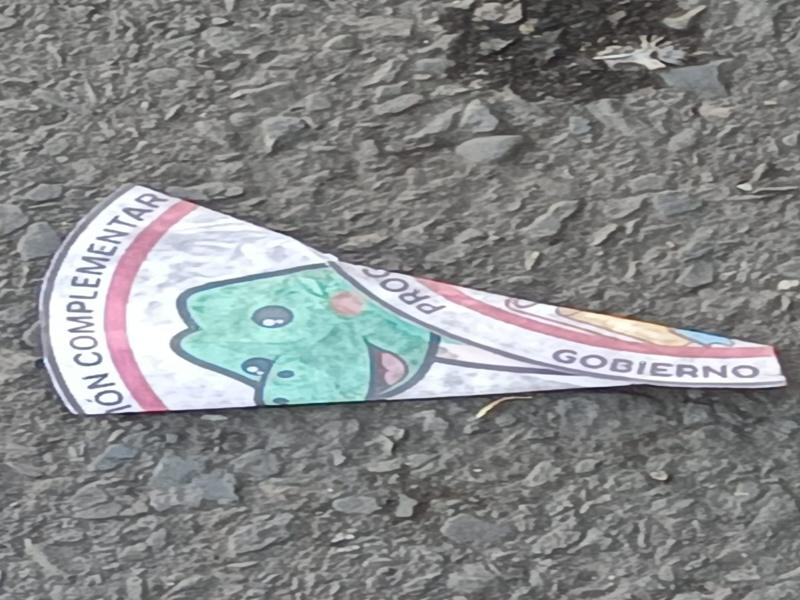papel: (38, 185, 789, 419)
